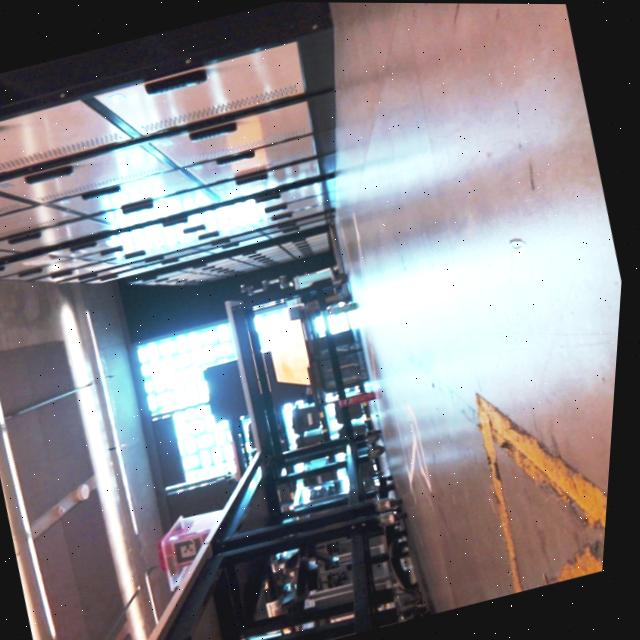greenpringles: (317, 292, 368, 327)
redpringles: (330, 383, 390, 417)
